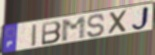B: (41, 20, 63, 46)
I: (31, 23, 38, 48)
J: (130, 5, 151, 31)
M: (61, 15, 87, 43)
S: (86, 13, 106, 39)
X: (108, 9, 129, 36)
